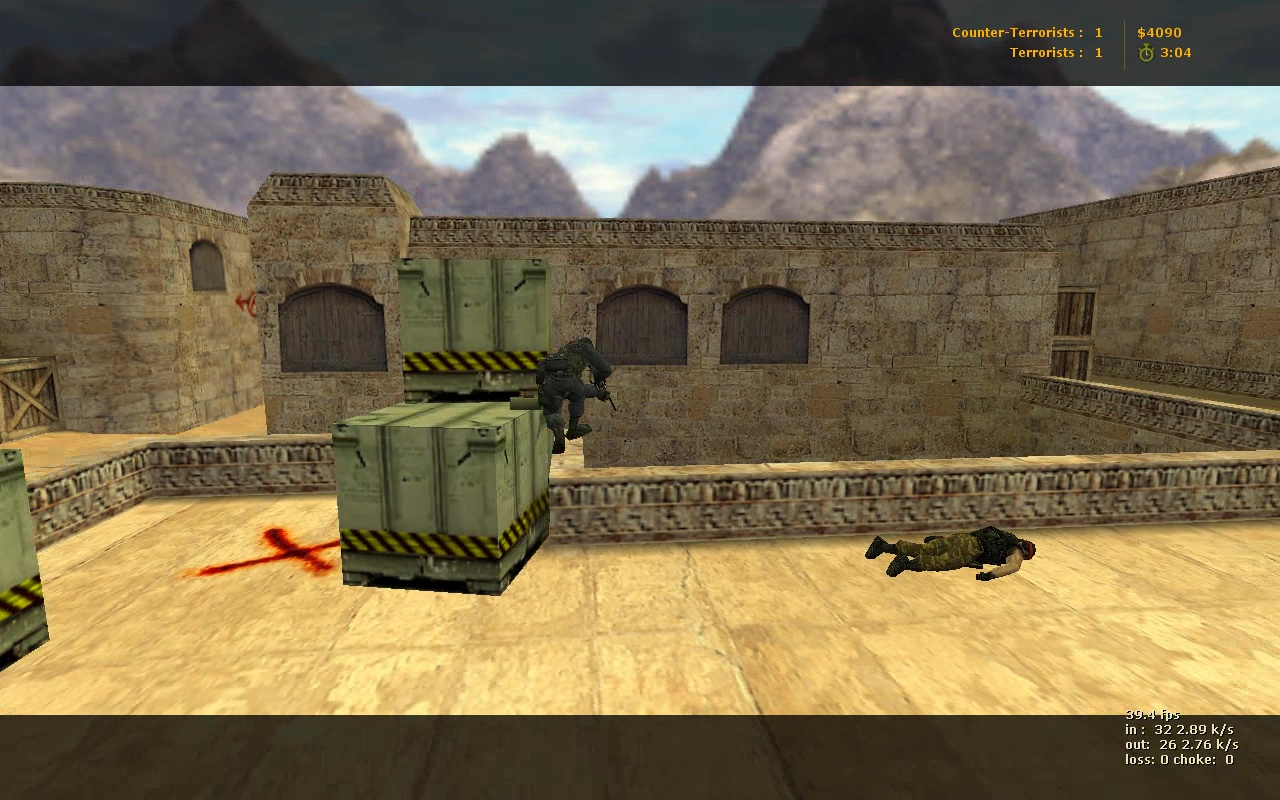ct: (535, 338, 619, 451)
dead: (867, 527, 1038, 584)
